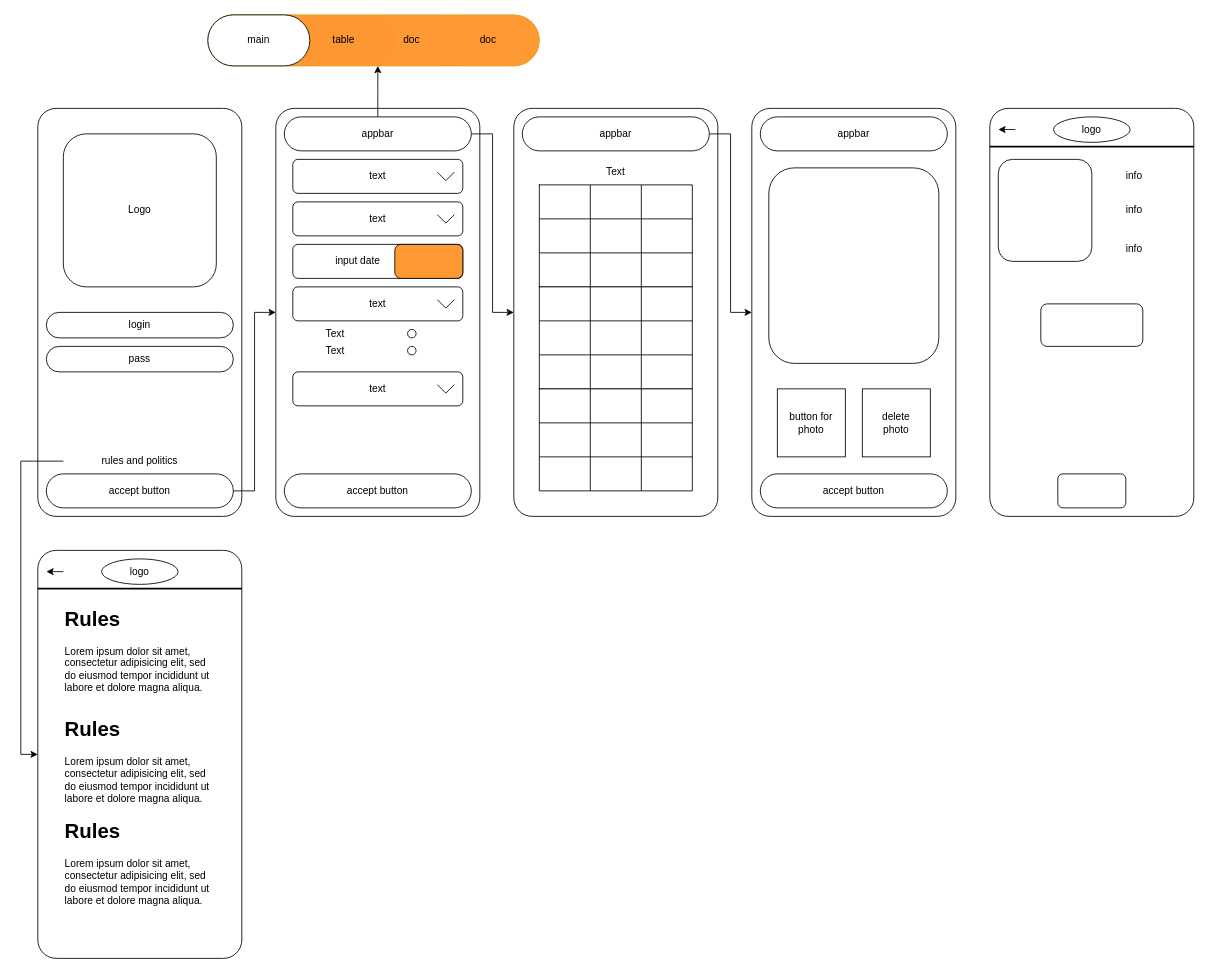
The diagram is 1210 pixels wide and 973 high, and some of its shapes have lost their labels. Each missing label, with the centre of its shape:
check permitions: point 1091,324
date: point 428,261
file preview: point 853,265
log out: point 1091,490
user photo: point 1044,210
